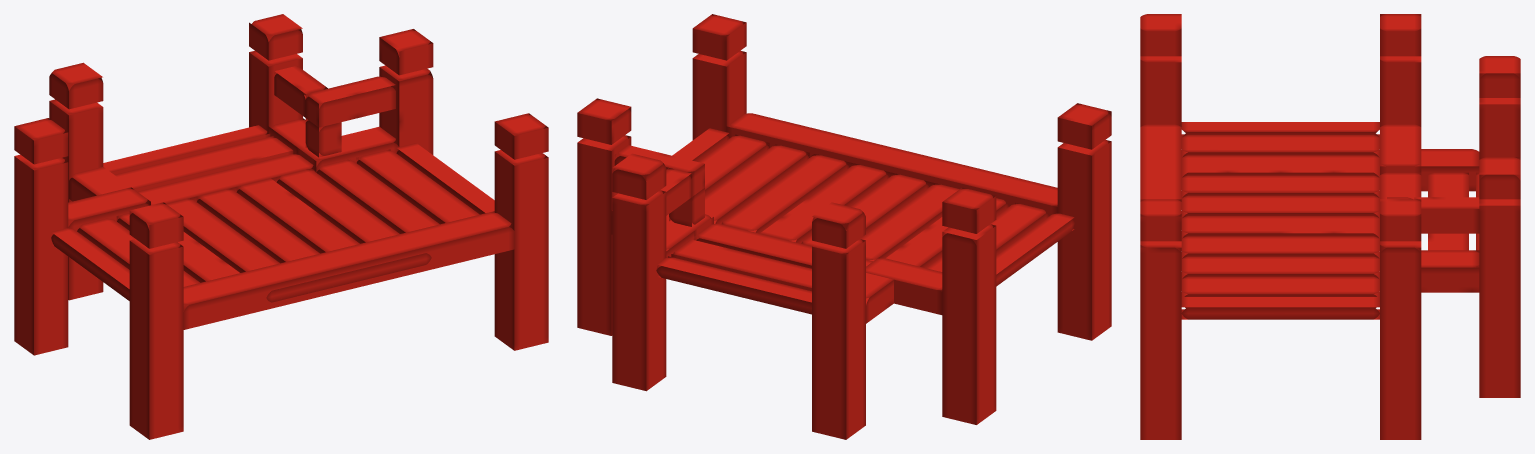
The model's file is bridge_u_3.obj.
3 views of the same model, side by side, from view 1: azimuth 30°, elevation 25°; view 2: azimuth 150°, elevation 25°; view 3: azimuth 270°, elevation 25° (orthographic). The views are drawn at different scales.
Visible parts, largest first — view 1: cube; view 2: cube; view 3: cube.
Boxes of the visible parts, x1=… form: cube: x1=14, y1=14, x2=548, y2=439; cube: x1=577, y1=14, x2=1111, y2=439; cube: x1=1140, y1=14, x2=1520, y2=439.
Bounding box in the file's own units: 1.09 × 0.5625 × 0.8672.
Materials: 1 (1 with a texture image).
